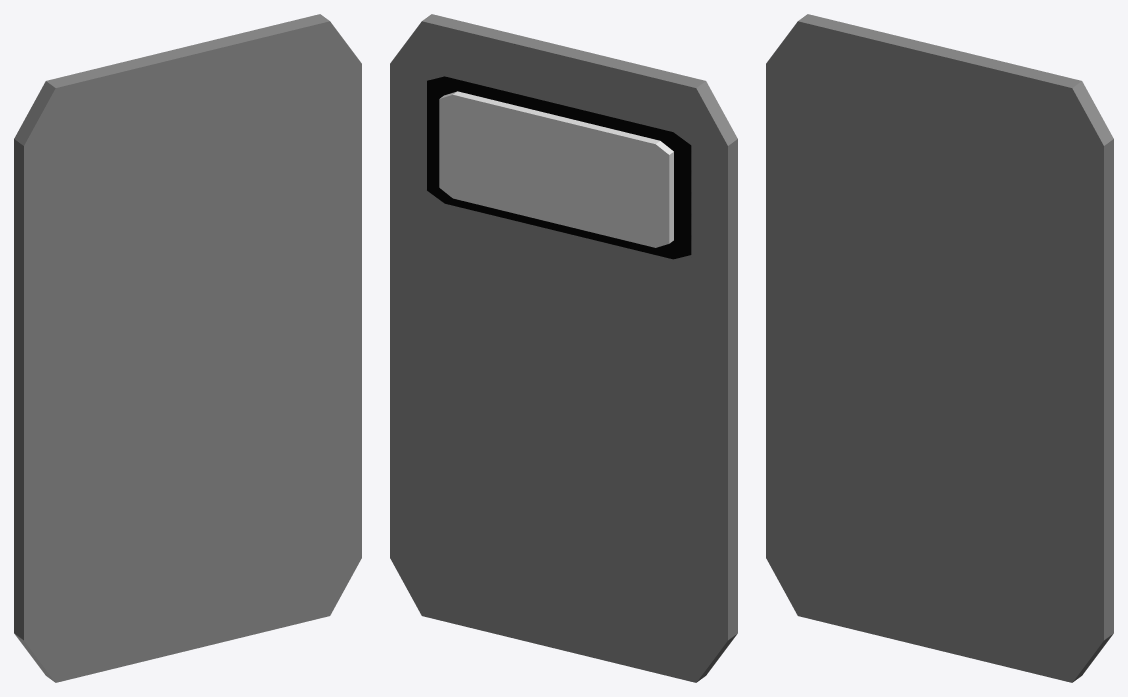
File: Door 2.fbx
The picture shows the model from 3 angles, left to right: view 1: azimuth 30°, elevation 25°; view 2: azimuth 150°, elevation 25°; view 3: azimuth 330°, elevation 25°; orthographic projection.
Visible parts, largest first — view 1: Door; view 2: Door; view 3: Door.
Boxes of the visible parts, x1,y1,x2,y2 form: Door: (14, 14, 361, 682); Door: (390, 14, 737, 682); Door: (766, 14, 1113, 682).
Size of the model in its own units: 242 by 406 by 18.09.
